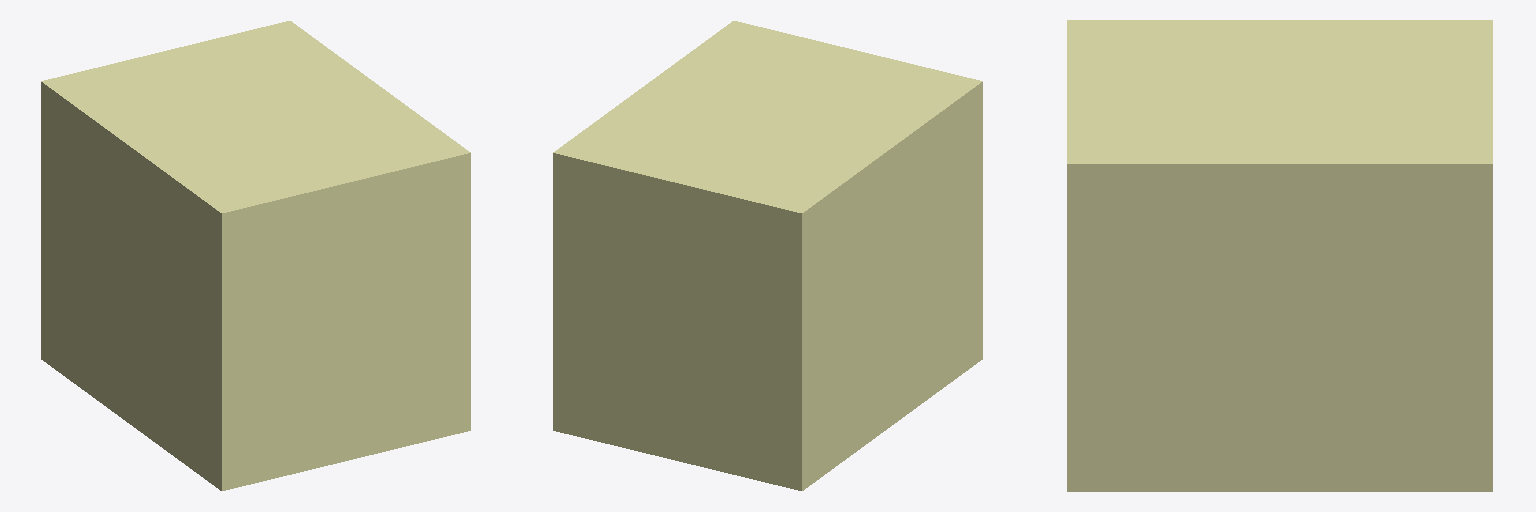
URDF robot description (box.urdf):
<?xml version="1.0" ?>
<robot name="box.urdf">
  <link name="baseLink">
    <contact>
      <lateral_friction value="1.0"/>
      <rolling_friction value="0.0001"/>
      <inertia_scaling value="3.0"/>
    </contact>
    <inertial>
      <origin rpy="0 0 0" xyz="0 0 0"/>
       <mass value="0.1"/>
       <inertia ixx="1" ixy="0" ixz="0" iyy="1" iyz="0" izz="1"/>
    </inertial>
    <visual>
      <origin rpy="0 0 0" xyz="0 0 0"/>
      <geometry>
        <!-- <box size="0.23 0.289 0.245"/> -->
        <mesh filename="box/box.obj" scale="0.23 0.289 0.245"/>
      </geometry>
      <material name="white">
        <color rgba="0.9 0.9 0.7 1"/>
      </material>
    </visual>
    <collision>
      <origin rpy="0 0 0" xyz="0 0 0"/>
      <geometry>
        <mesh filename="box/box.obj" scale="0.23 0.289 0.245"/>
	 	    <!-- <box size="0.23 0.289 0.245"/> -->
      </geometry>
    </collision>
  </link>
</robot>

--- Facts derived from the render (not from the file) ---
Views: 3 orthographic renders of the robot side by side, from view 1: azimuth 30°, elevation 25°; view 2: azimuth 150°, elevation 25°; view 3: azimuth 270°, elevation 25°.
Model box.urdf with 1 links and 0 joints (none), rooted at baseLink, posed all joints at 0.
Links seen in each view (by area): view 1: baseLink; view 2: baseLink; view 3: baseLink.
Link boxes in pixels (bbox=[...]): baseLink: bbox=[41, 21, 470, 490]; baseLink: bbox=[553, 21, 982, 490]; baseLink: bbox=[1067, 20, 1492, 491].
Bounding box of the posed robot: 0.23 × 0.289 × 0.245 m (x, y, z).
Meshes: 1 distinct files referenced, 1 mesh visuals loaded (1 OBJ).
